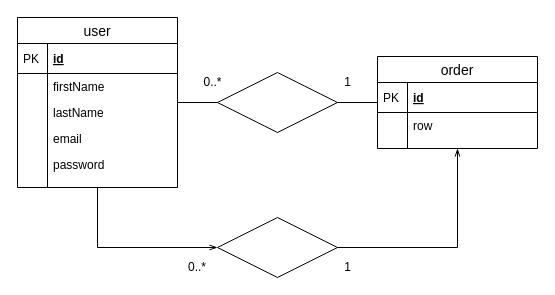
The diagram is 555 pixels wide and 295 high, and some of its shapes have lost their labels. The centre of each missing label's shape, as x and y in pixels:
"generated by" belongs at point 277,102.
"resolves" belongs at point 277,247.
